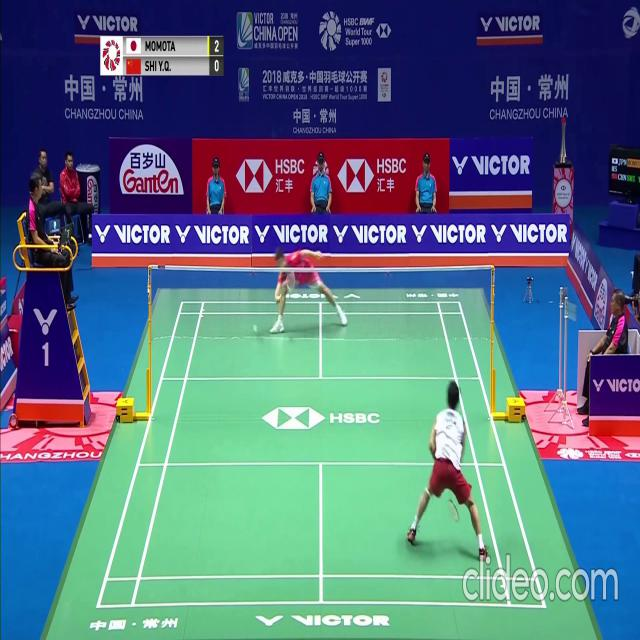Shuttlecock: (252, 323, 257, 331)
